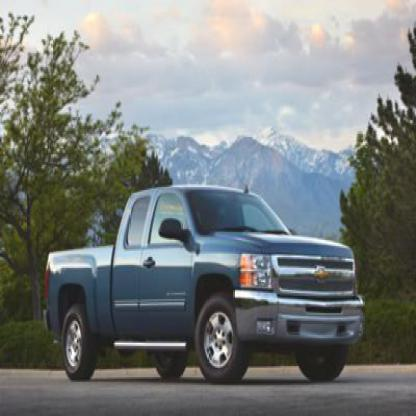Vehicle: (41, 180, 367, 390)
